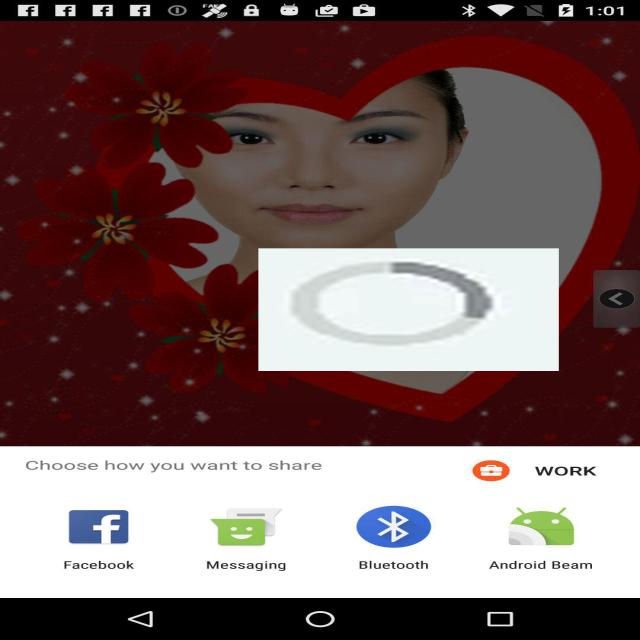misdirection: (258, 248, 559, 371)
